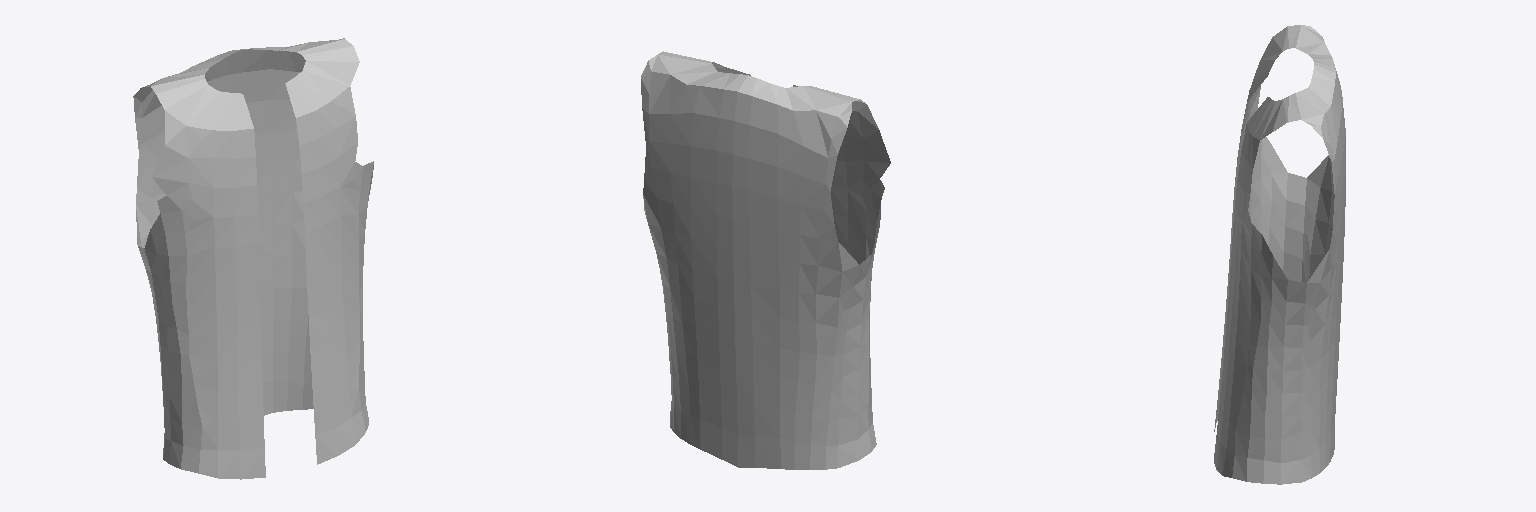
Rendered from vest_4.obj.
3 renders of one model, left to right at view 1: azimuth 30°, elevation 25°; view 2: azimuth 150°, elevation 25°; view 3: azimuth 270°, elevation 25°, orthographic.
Parts seen in each view (by area): view 1: tshirt_4.002; view 2: tshirt_4.002; view 3: tshirt_4.002.
Boxes of the visible parts, <box> form: tshirt_4.002: <box>133,38,373,479</box>; tshirt_4.002: <box>641,51,890,469</box>; tshirt_4.002: <box>1214,25,1345,484</box>.
Bounding box in the file's own units: 0.7271 × 1.18 × 0.3672.